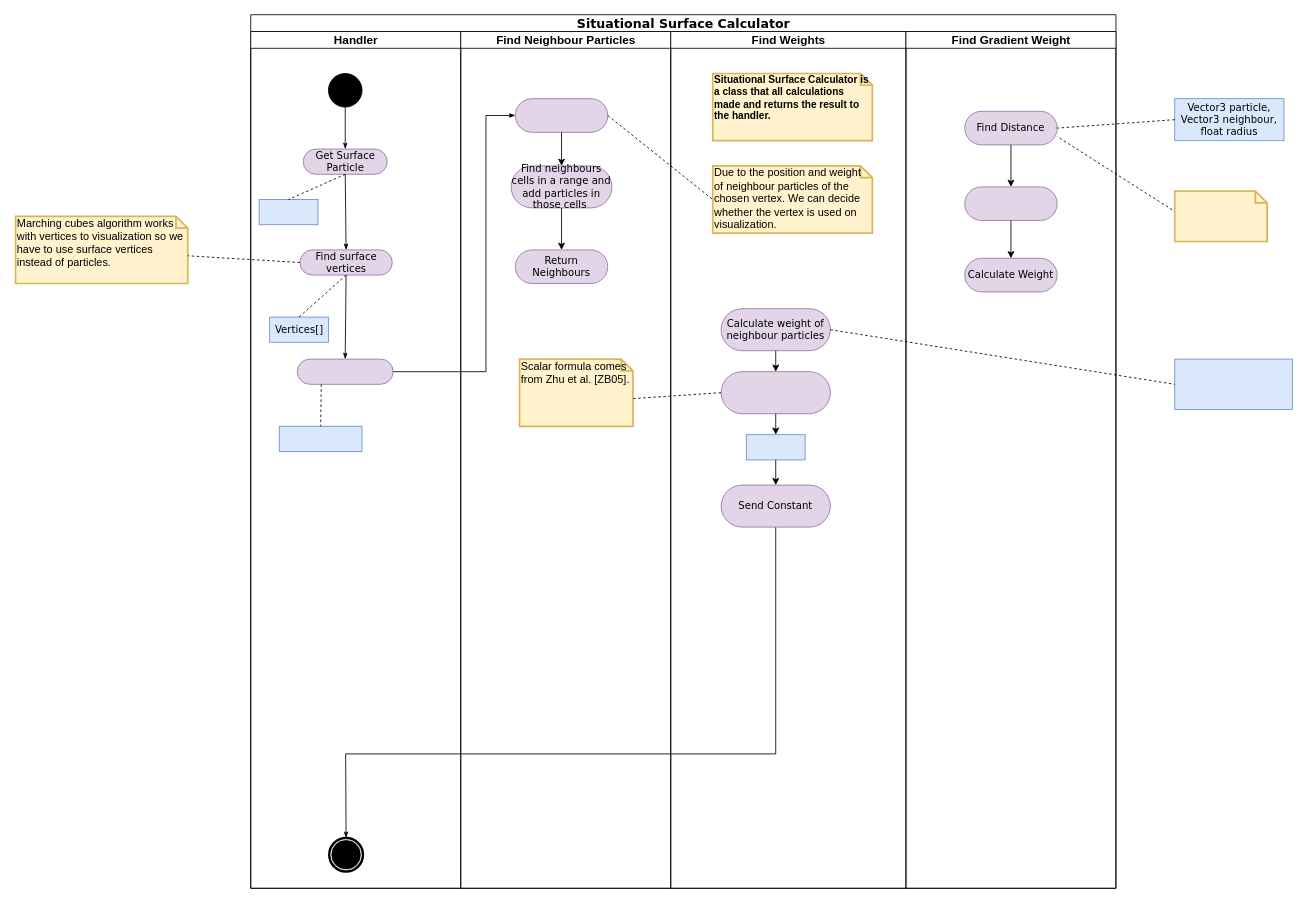
This 1307x903 diagram has some shape labels left out. The centre of each missing label's shape, as x and y in pixels:
Calculate scalar formula: the point at 775,392
Find Kernel: the point at 1010,203
Find neighbours in a range: the point at 561,115
Finds the distance between 2 points in 3D space.: the point at 1220,216
Float: the point at 775,447
int[] neighbourCells: the point at 320,438
Pos[]: the point at 288,212
Send Cells: the point at 344,371
Vector3 vertex, Vector3[] particles, float[] weights, float length: the point at 1233,384
